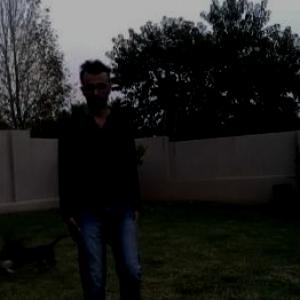follow: (58, 51, 142, 299)
